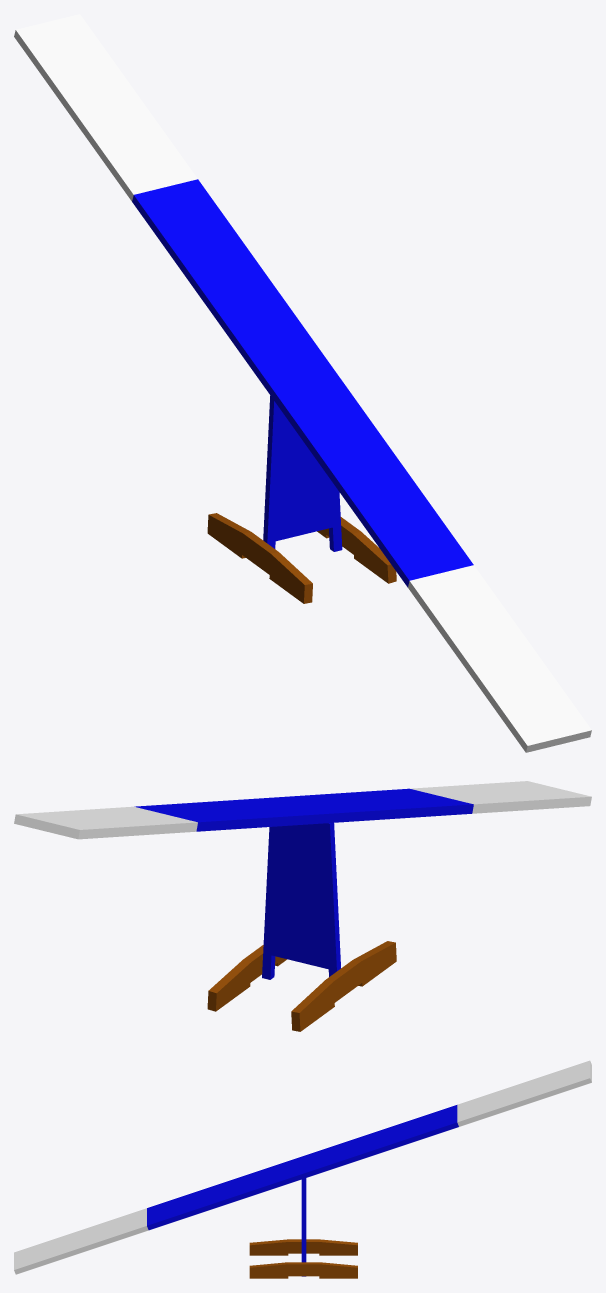
File: Contact-3.dae
3 renders of one model, top to bottom at view 1: azimuth 30°, elevation 25°; view 2: azimuth 150°, elevation 25°; view 3: azimuth 270°, elevation 25°, orthographic. The views are drawn at different scales.
Parts seen in each view (by area): view 1: plank (×3), upright (×2), foot (×2); view 2: plank (×3), upright (×2), foot (×2); view 3: plank (×4), foot (×2), upright.
Boxes of the visible parts, x1=… form: plank (×3): x1=14, y1=14, x2=591, y2=752; upright (×2): x1=263, y1=395, x2=342, y2=551; foot (×2): x1=207, y1=513, x2=396, y2=603; plank (×3): x1=14, y1=781, x2=591, y2=839; upright (×2): x1=262, y1=823, x2=340, y2=979; foot (×2): x1=207, y1=941, x2=396, y2=1031; plank (×4): x1=14, y1=1060, x2=591, y2=1274; foot (×2): x1=249, y1=1239, x2=357, y2=1278; upright: x1=301, y1=1178, x2=306, y2=1276.
Size of the model in its own units: 15.35 by 147 by 55.2.
